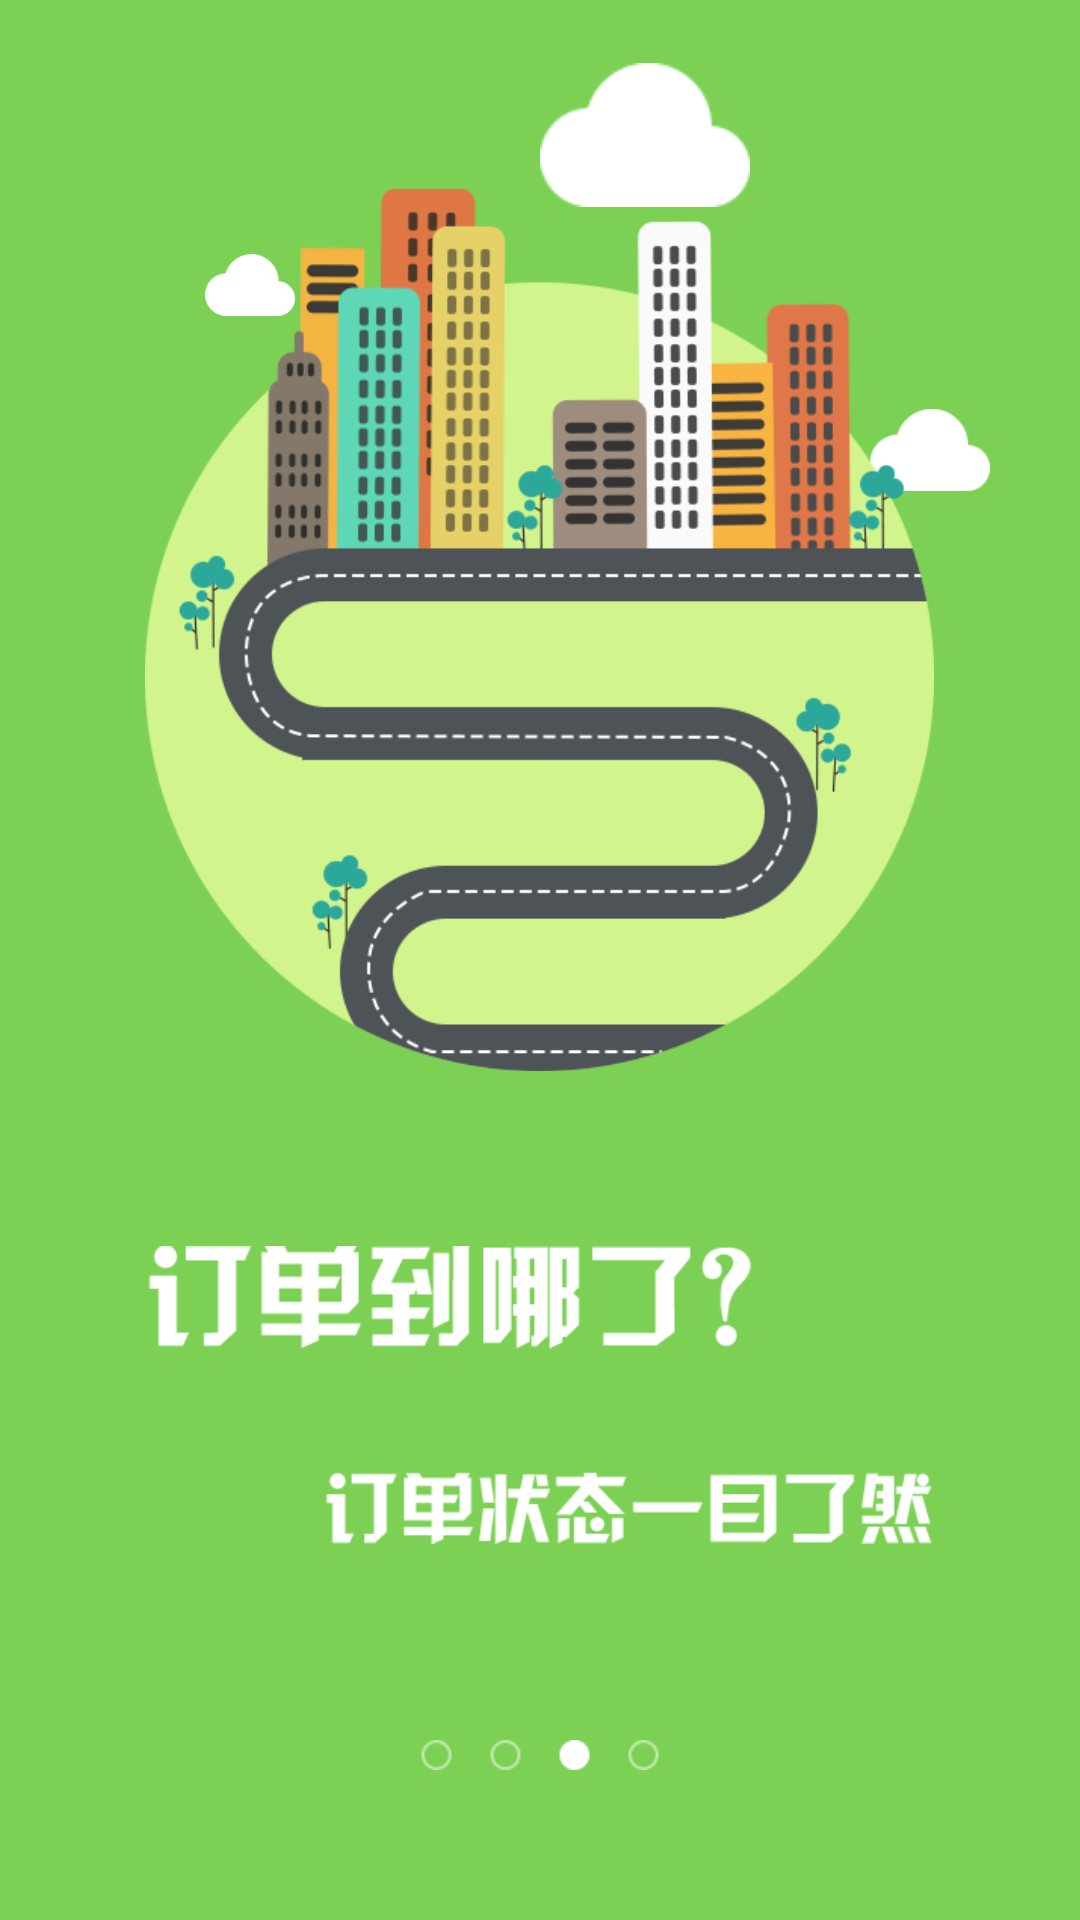

Locate icon controls on the screen. Image size 1080*1920, boxes as box=[x1, y1, x2, y2].
cloud: box=[540, 63, 750, 207], box=[205, 254, 295, 316], box=[870, 409, 990, 510]
